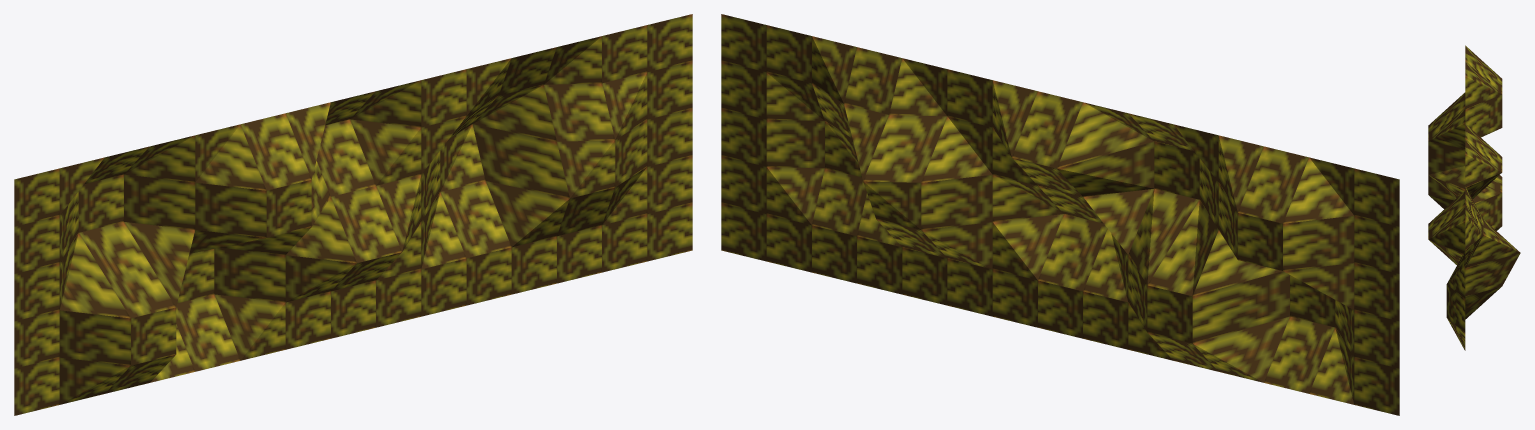
File: GrassFill.obj
3 views of the same model, side by side, from view 1: azimuth 30°, elevation 25°; view 2: azimuth 150°, elevation 25°; view 3: azimuth 270°, elevation 25° (orthographic). The views are drawn at different scales.
Parts seen in each view (by area): view 1: Default; view 2: Default; view 3: Default.
Part boxes in pixels (<box>): Default: <box>14,14,692,415</box>; Default: <box>721,14,1399,415</box>; Default: <box>1428,45,1520,350</box>.
Bounding box in the file's own units: 15 × 5 × 2.5.
1 material, 1 textured.
